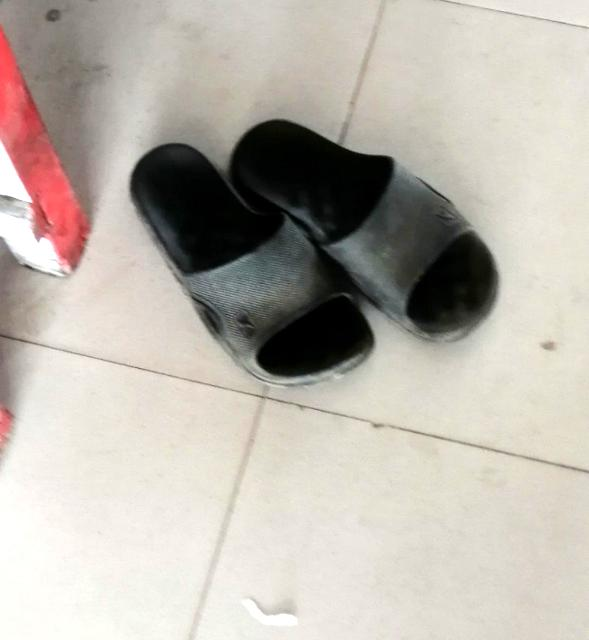sandal: (66, 100, 413, 462), (185, 23, 533, 362)
